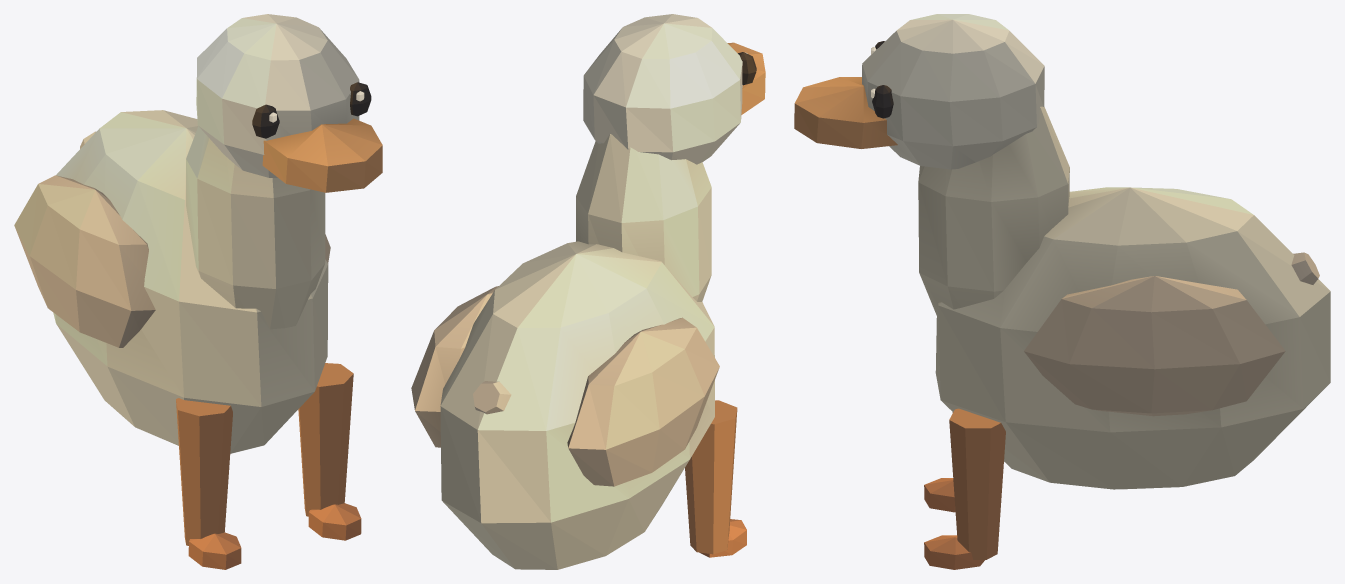
The model's file is farm_duck.glb.
The picture shows the model from 3 angles, left to right: view 1: azimuth 30°, elevation 25°; view 2: azimuth 150°, elevation 25°; view 3: azimuth 270°, elevation 25°; orthographic projection. The views are drawn at different scales.
Parts seen in each view (by area): view 1: farm_duck, Paw_-1_0.16, Paw_1_0.16; view 2: farm_duck, Paw_-1_0.16; view 3: farm_duck, Paw_1_0.16, Paw_-1_0.16.
Boxes of the visible parts, box(x1,y1,x2,y2) form: farm_duck: box(14, 14, 382, 453); Paw_-1_0.16: box(176, 398, 241, 569); Paw_1_0.16: box(298, 363, 361, 540); farm_duck: box(411, 14, 765, 569); Paw_-1_0.16: box(685, 400, 746, 557); farm_duck: box(794, 14, 1330, 489); Paw_1_0.16: box(924, 408, 1005, 569); Paw_-1_0.16: box(924, 412, 955, 512).
Size of the model in its own units: 0.4332 by 0.8908 by 0.835.
